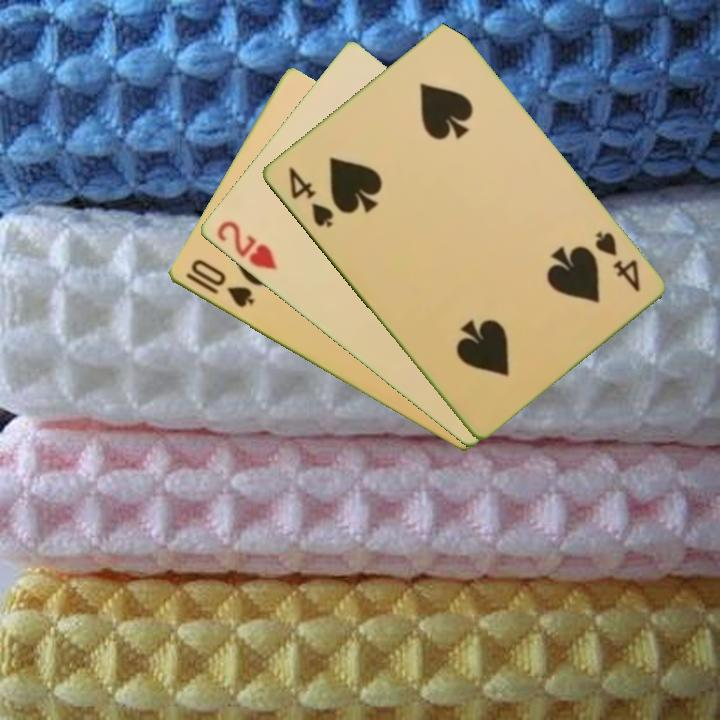10s: (181, 255, 257, 311)
2h: (212, 217, 280, 274)
4s: (590, 227, 643, 295), (284, 163, 336, 231)
